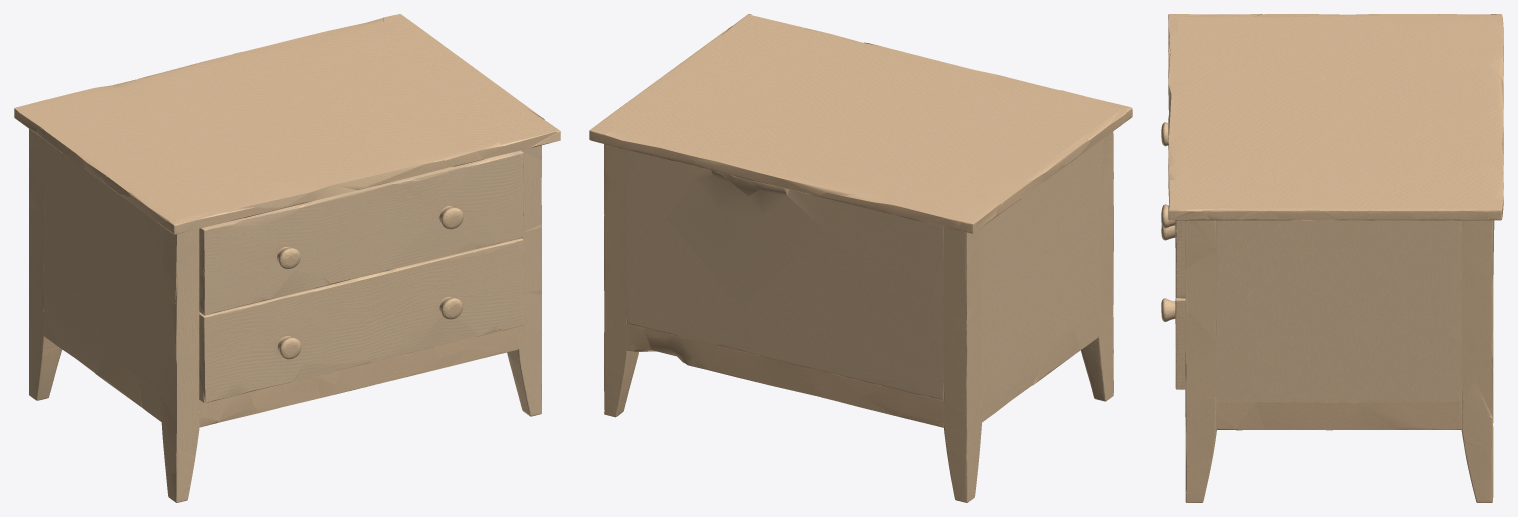
3 views of the same model, side by side, from view 1: azimuth 30°, elevation 25°; view 2: azimuth 150°, elevation 25°; view 3: azimuth 270°, elevation 25° (orthographic). The views are drawn at different scales.
Size of the model in its own units: 1.9 by 1.35 by 1.4.
1 material, 1 textured.
